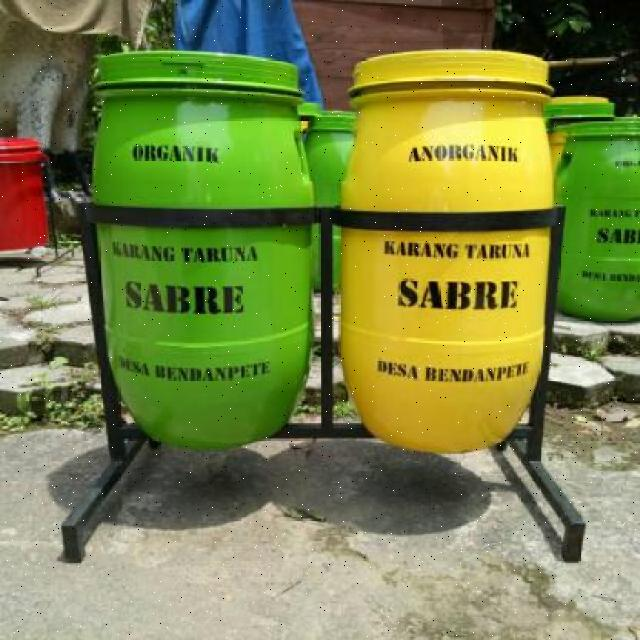garbage container: (337, 27, 569, 481), (76, 44, 316, 468)
